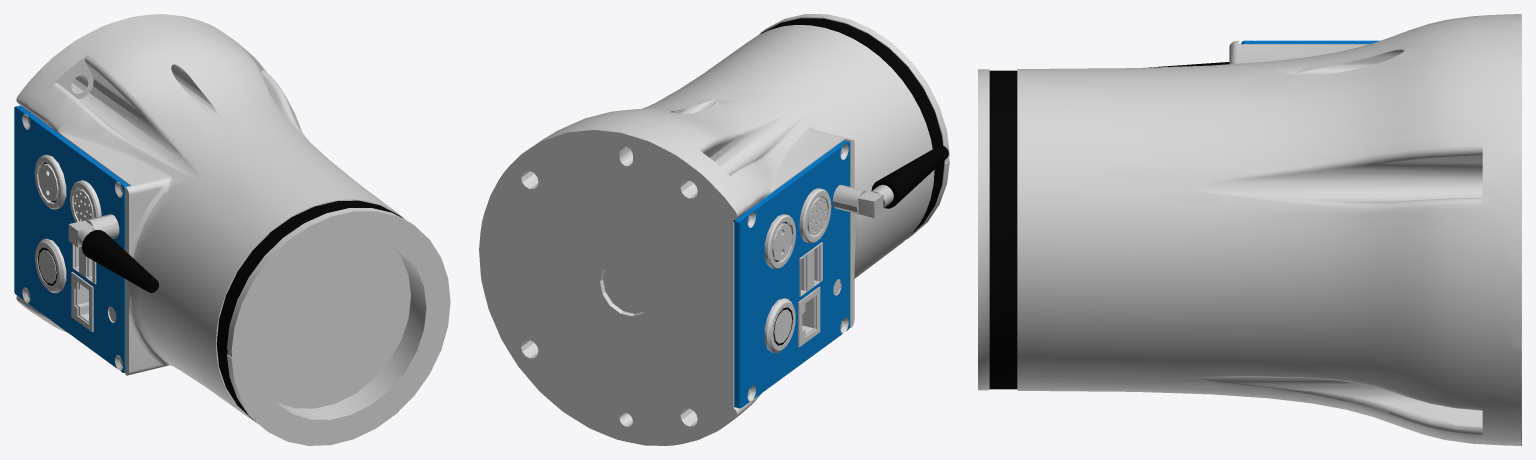
3 renders of one model, left to right at view 1: azimuth 30°, elevation 25°; view 2: azimuth 150°, elevation 25°; view 3: azimuth 270°, elevation 25°, orthographic. The views are drawn at different scales.
Parts seen in each view (by area): view 1: Mesh, Mesh.002, Mesh.001, Mesh.028, Mesh.005; view 2: Mesh, Mesh.002, Mesh.001, Mesh.028, Mesh.005; view 3: Mesh, Mesh.001, Mesh.002.
Boxes of the visible parts, bbox=[...] form: Mesh: bbox=[16, 14, 450, 445]; Mesh.002: bbox=[14, 105, 129, 372]; Mesh.001: bbox=[216, 200, 403, 421]; Mesh.028: bbox=[81, 230, 158, 292]; Mesh.005: bbox=[68, 214, 119, 247]; Mesh: bbox=[479, 14, 949, 445]; Mesh.002: bbox=[734, 140, 849, 408]; Mesh.001: bbox=[761, 18, 944, 237]; Mesh.028: bbox=[871, 145, 948, 208]; Mesh.005: bbox=[832, 184, 893, 218]; Mesh: bbox=[978, 14, 1521, 445]; Mesh.001: bbox=[989, 70, 1017, 389]; Mesh.002: bbox=[1241, 40, 1379, 44].
Size of the model in its own units: 0.1143 by 0.11 by 0.1385.
